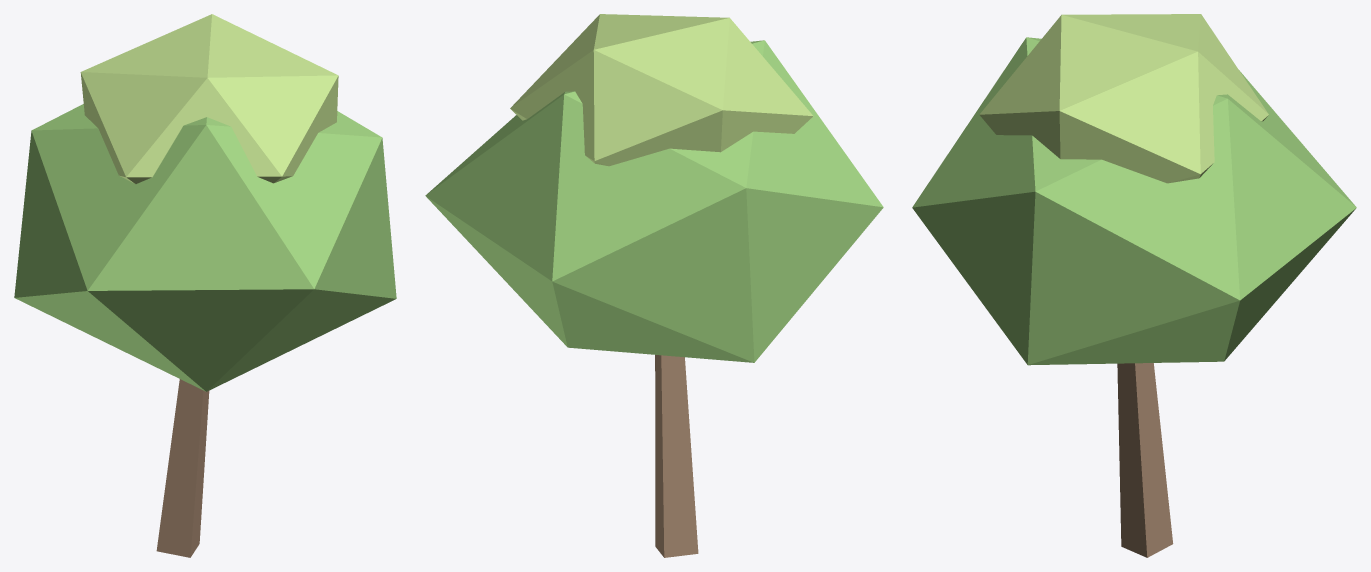
Rendered from pereira_1_lod.fbx.
3 renders of one model, left to right at view 1: azimuth 30°, elevation 25°; view 2: azimuth 150°, elevation 25°; view 3: azimuth 270°, elevation 25°, orthographic. The views are drawn at different scales.
Parts seen in each view (by area): view 1: pereira_1_lod~Copa@leaf, pereira_1_lod~Copa 0@leaflight, pereira_1_lod~Tronco@bark; view 2: pereira_1_lod~Copa@leaf, pereira_1_lod~Copa 0@leaflight, pereira_1_lod~Tronco@bark; view 3: pereira_1_lod~Copa@leaf, pereira_1_lod~Copa 0@leaflight, pereira_1_lod~Tronco@bark.
Boxes of the visible parts, x1,y1,x2,y2 form: pereira_1_lod~Copa@leaf: [14, 104, 396, 391]; pereira_1_lod~Copa 0@leaflight: [80, 14, 338, 183]; pereira_1_lod~Tronco@bark: [156, 379, 209, 557]; pereira_1_lod~Copa@leaf: [425, 40, 883, 362]; pereira_1_lod~Copa 0@leaflight: [510, 14, 813, 166]; pereira_1_lod~Tronco@bark: [655, 355, 698, 557]; pereira_1_lod~Copa@leaf: [912, 37, 1356, 365]; pereira_1_lod~Copa 0@leaflight: [979, 14, 1268, 183]; pereira_1_lod~Tronco@bark: [1117, 363, 1173, 557].
Bounding box in the file's own units: 3.45 × 4.69 × 3.59.
